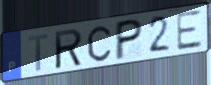2: (147, 14, 172, 57)
C: (86, 25, 113, 64)
E: (175, 8, 204, 53)
P: (113, 17, 145, 63)
R: (53, 27, 84, 71)
T: (26, 32, 49, 73)
